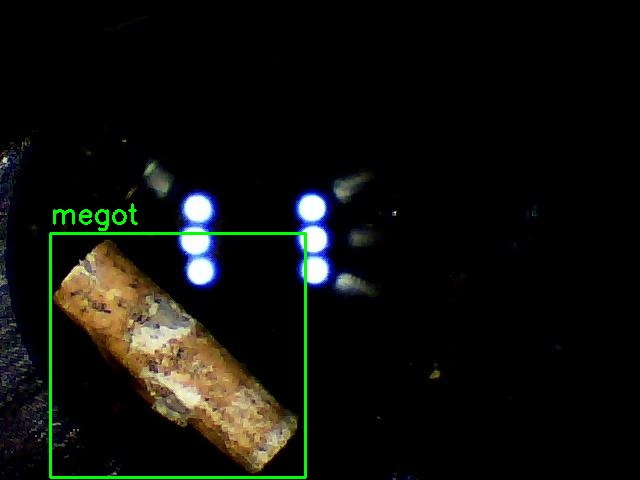megot: (50, 233, 305, 477)
